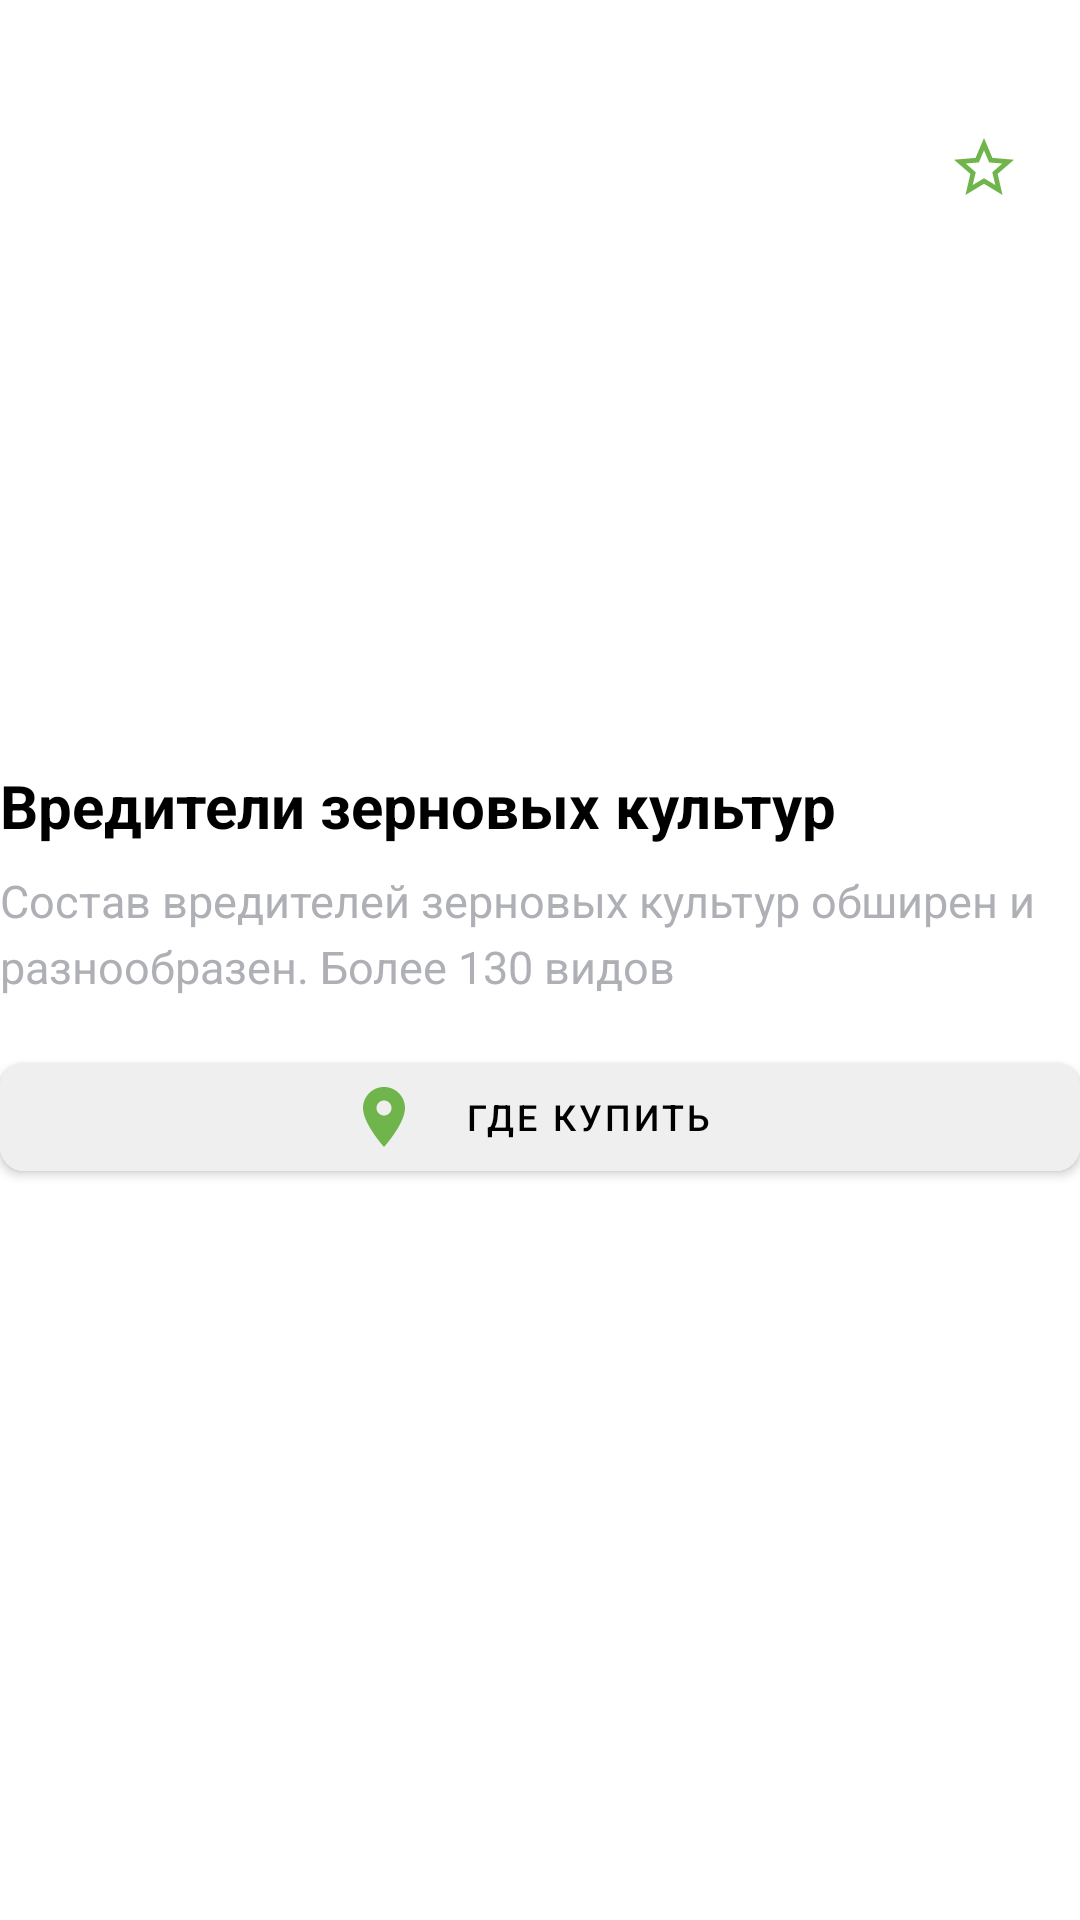

Locate icon controls on the screen. Image size 1080*1920, boxes as {"left": x1, "top": y1, "right": x2, "bottom": y2}.
star border: {"left": 954, "top": 138, "right": 1014, "bottom": 195}
